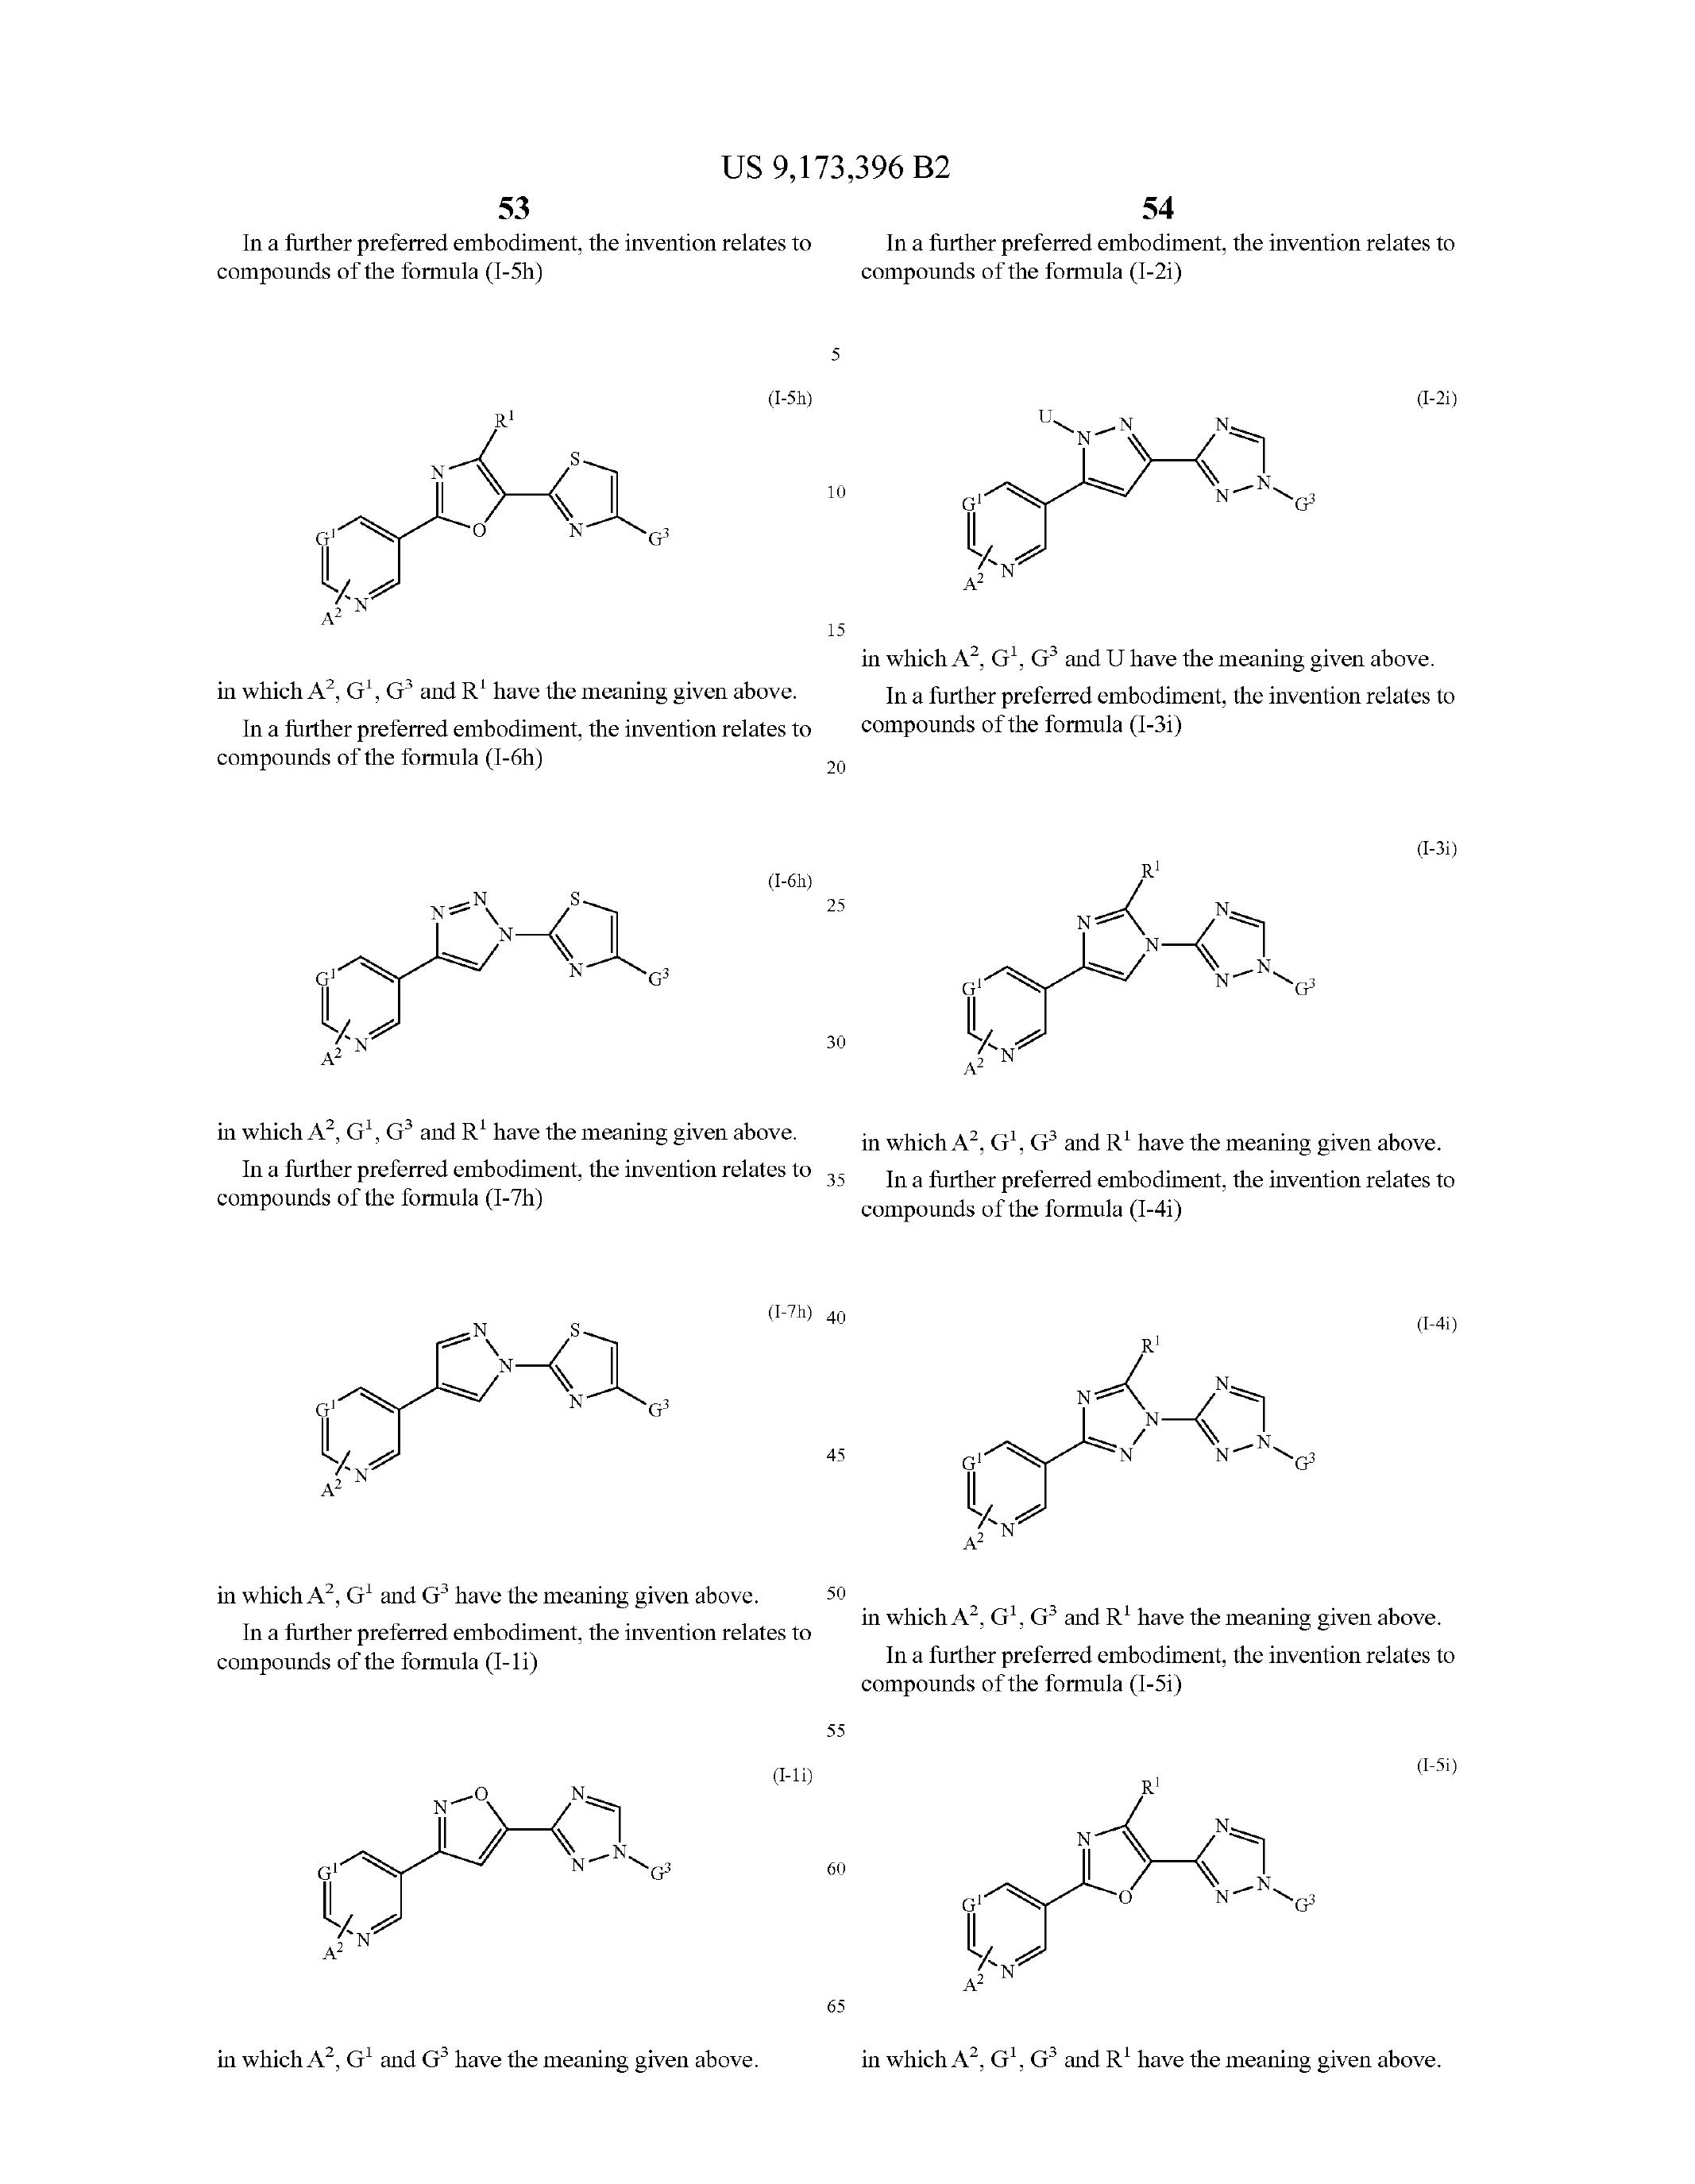substitutes: (163, 308, 743, 628), (908, 1730, 1379, 1998), (215, 1292, 743, 1517)
